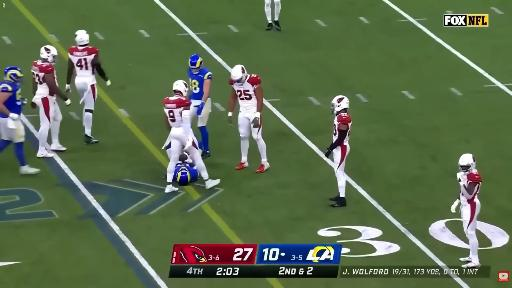Helmet: (458, 153, 476, 172), (331, 96, 349, 113), (40, 46, 57, 63), (4, 67, 23, 82), (231, 65, 247, 82), (173, 80, 188, 96), (177, 167, 190, 185), (189, 54, 202, 72), (75, 34, 89, 45), (75, 30, 87, 36)
Jersey: (230, 75, 261, 112), (69, 47, 98, 83), (32, 60, 56, 98), (164, 96, 190, 127), (188, 68, 212, 100), (458, 170, 481, 203), (0, 82, 22, 114), (333, 113, 351, 145), (174, 162, 198, 182)
Player: (164, 80, 220, 192), (66, 33, 110, 144), (228, 65, 269, 173), (31, 46, 70, 157), (0, 67, 39, 174), (451, 154, 481, 267), (325, 96, 351, 207), (188, 55, 212, 158), (174, 152, 198, 185), (265, 0, 281, 30), (75, 30, 87, 37)
